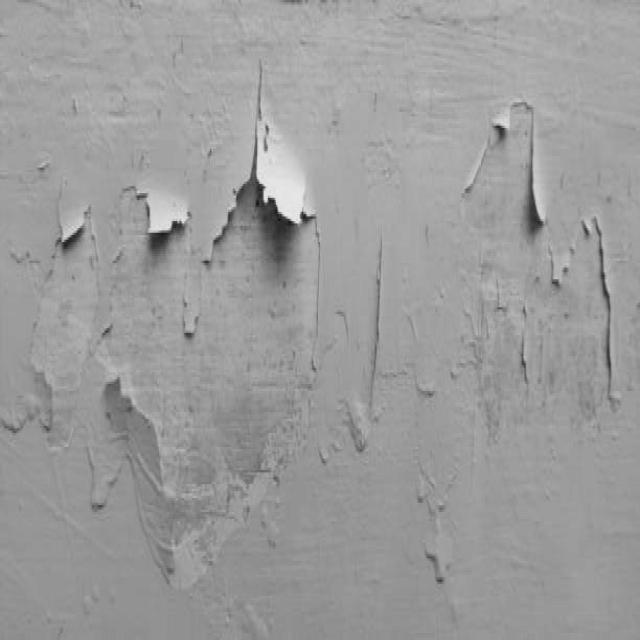peeling paint: (0, 50, 640, 602)
